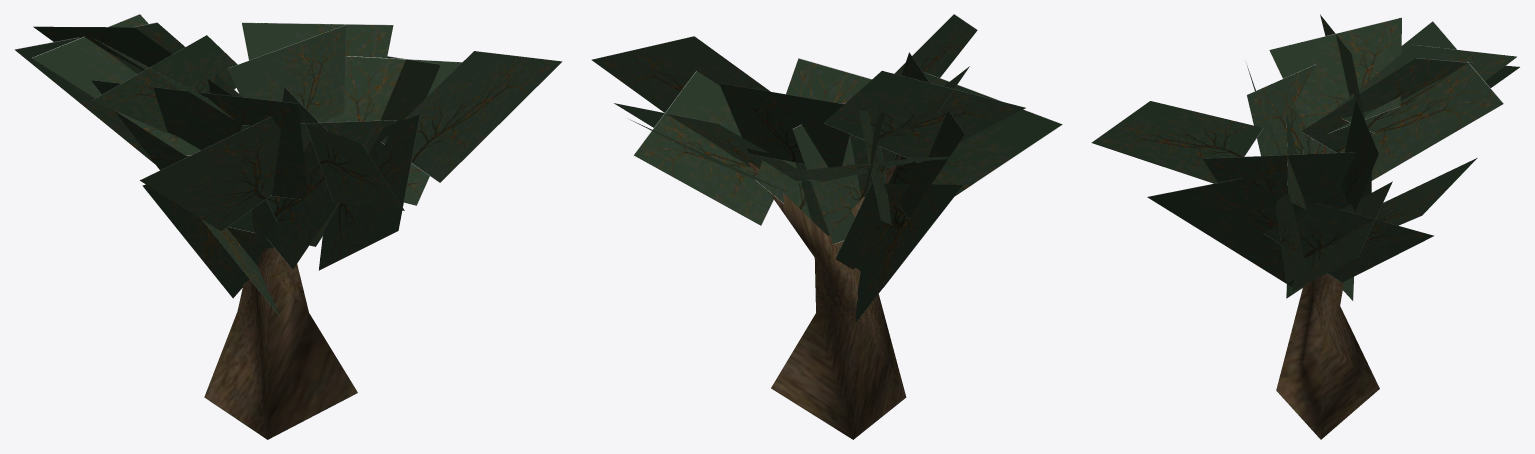
The model's file is decd_oaktreebranches_l3.fbx.
The picture shows the model from 3 angles, left to right: view 1: azimuth 30°, elevation 25°; view 2: azimuth 150°, elevation 25°; view 3: azimuth 270°, elevation 25°; orthographic projection. The views are drawn at different scales.
Visible parts, largest first — view 1: mesh_node; view 2: mesh_node; view 3: mesh_node.
Part boxes in pixels (x1=…): mesh_node: x1=14, y1=14, x2=562, y2=439; mesh_node: x1=591, y1=14, x2=1062, y2=439; mesh_node: x1=1091, y1=14, x2=1519, y2=439.
Bounding box in the file's own units: 26.37 × 20.55 × 24.28.
